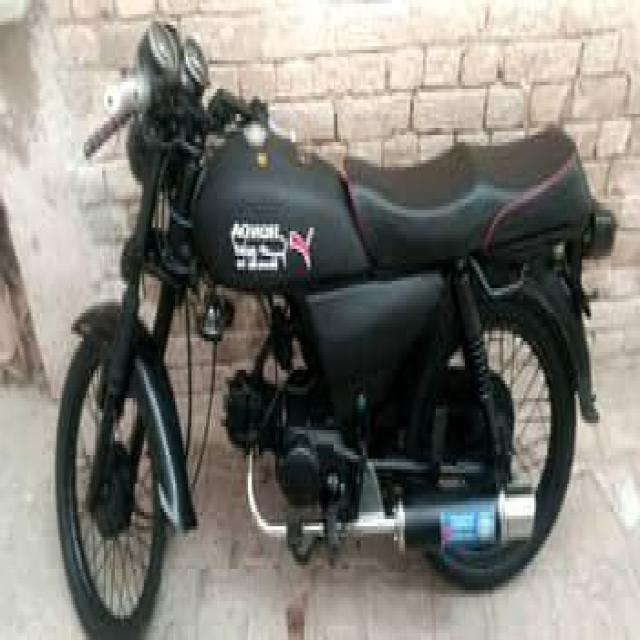motorcycle: (45, 32, 630, 629)
